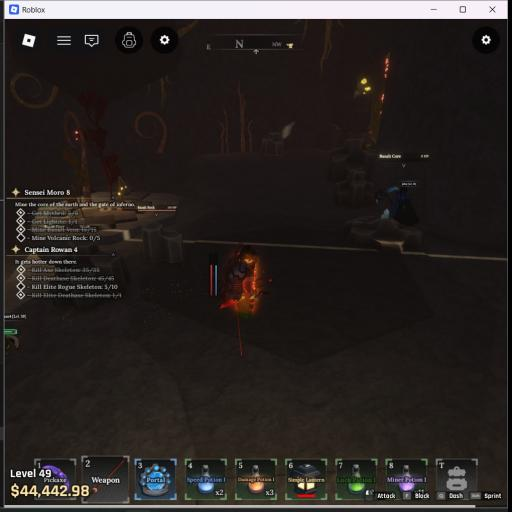player: (226, 246, 261, 301)
rock: (342, 216, 423, 253), (142, 223, 184, 262), (334, 169, 373, 208), (90, 253, 130, 291), (328, 139, 362, 182), (262, 132, 283, 155)
